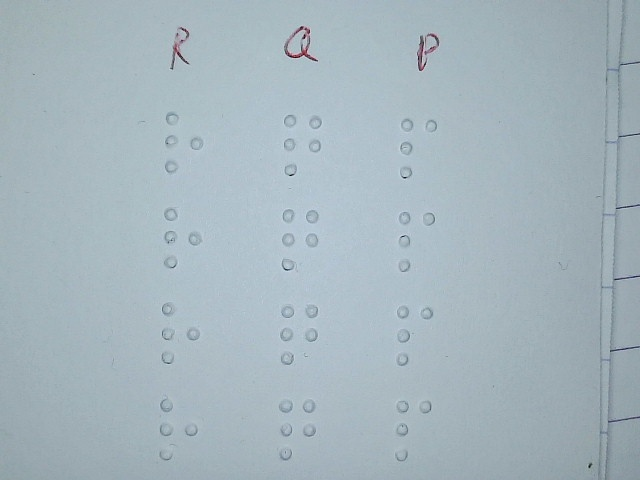P: (397, 116, 440, 180), (395, 208, 438, 272), (393, 303, 436, 367), (392, 398, 435, 462)
Q: (281, 113, 324, 177), (278, 207, 321, 271), (277, 302, 320, 366), (275, 397, 318, 461)
R: (162, 110, 205, 174), (161, 206, 204, 270), (159, 301, 202, 365), (157, 396, 200, 460)
